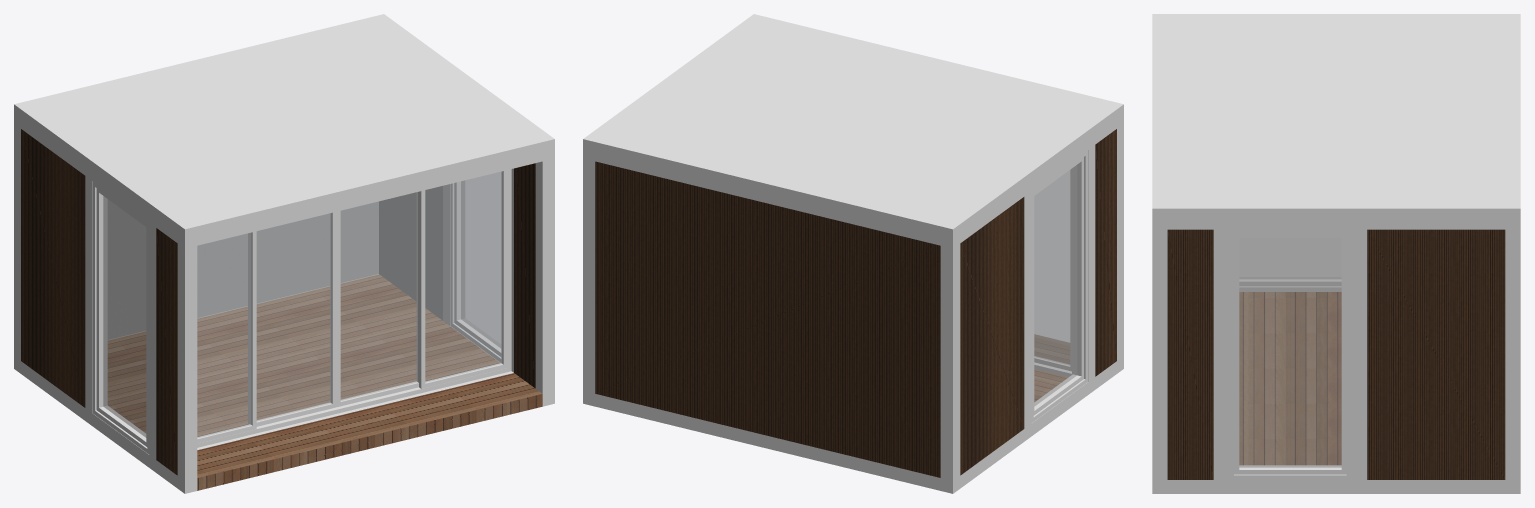
The model's file is Pod_size_15x12_extended_with_windows.glb.
3 renders of one model, left to right at view 1: azimuth 30°, elevation 25°; view 2: azimuth 150°, elevation 25°; view 3: azimuth 270°, elevation 25°, orthographic. The views are drawn at different scales.
Parts seen in each view (by area): view 1: Frame (×23), Geom3D (×4), Deck2, exteriorwall (×3), interiorwall (×2), Geom3D_ (×2), Deck; view 2: exteriorwall (×3), Frame (×12), Geom3D_, Geom3D, Deck2; view 3: Frame (×11), exteriorwall (×2), Geom3D_ (×2), Deck2.
Part boxes in pixels (x1=…): Frame (×23): x1=14, y1=14, x2=554, y2=493; Geom3D (×4): x1=197, y1=171, x2=502, y2=437; Deck2: x1=107, y1=274, x2=542, y2=477; exteriorwall (×3): x1=21, y1=129, x2=535, y2=475; interiorwall (×2): x1=107, y1=186, x2=442, y2=339; Geom3D_ (×2): x1=103, y1=172, x2=500, y2=437; Deck: x1=197, y1=394, x2=542, y2=490; exteriorwall (×3): x1=595, y1=129, x2=1116, y2=477; Frame (×12): x1=583, y1=14, x2=1123, y2=493; Geom3D_: x1=1034, y1=165, x2=1077, y2=406; Geom3D: x1=1035, y1=171, x2=1069, y2=364; Deck2: x1=1034, y1=334, x2=1069, y2=401; Frame (×11): x1=1152, y1=14, x2=1520, y2=493; exteriorwall (×2): x1=1167, y1=229, x2=1505, y2=479; Geom3D_ (×2): x1=1239, y1=238, x2=1341, y2=467; Deck2: x1=1239, y1=292, x2=1341, y2=465.
Bounding box in the file's own units: 116 × 79.35 × 92.9.
75 materials, 27 textured.
